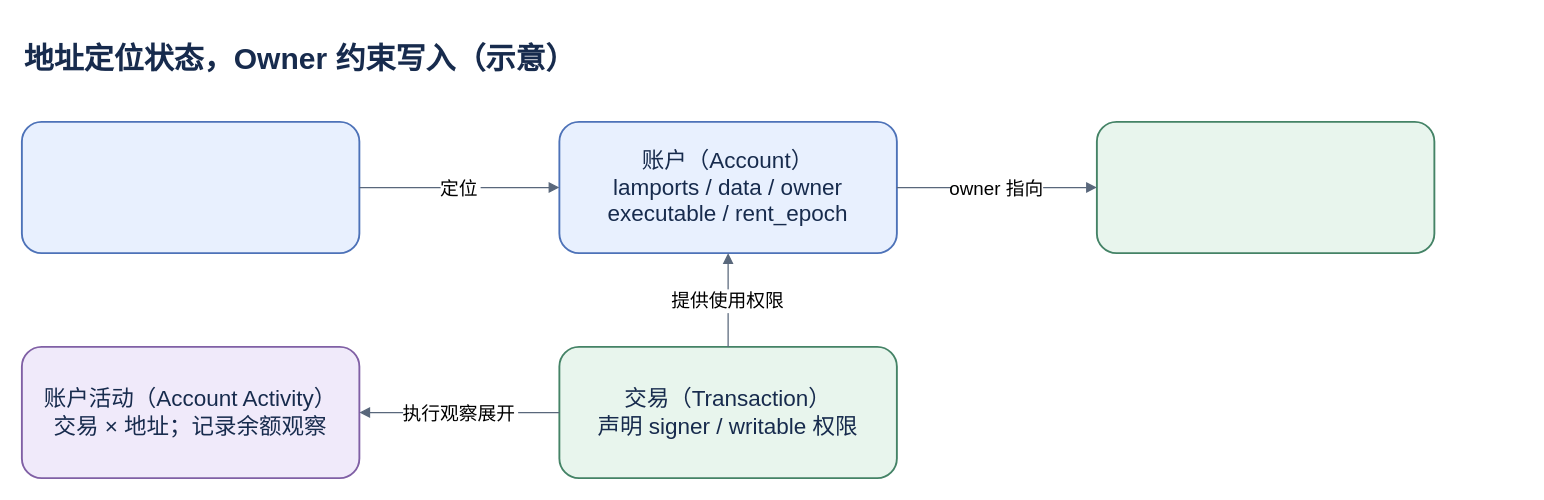
The diagram is 1544 pixels wide and 500 high, and some of its shapes have lost their labels. Each missing label, with the box of its shape:
地址（Address） 定位账户；不是自然人身份: (20, 120, 360, 254)
所有者程序（Owner Program） 负责解释与修改 data: (1095, 120, 1435, 254)
